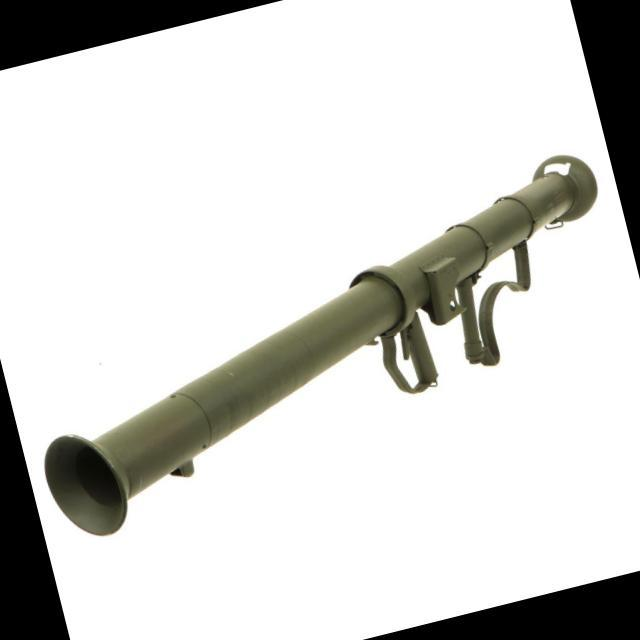rocket: (2, 145, 640, 542)
